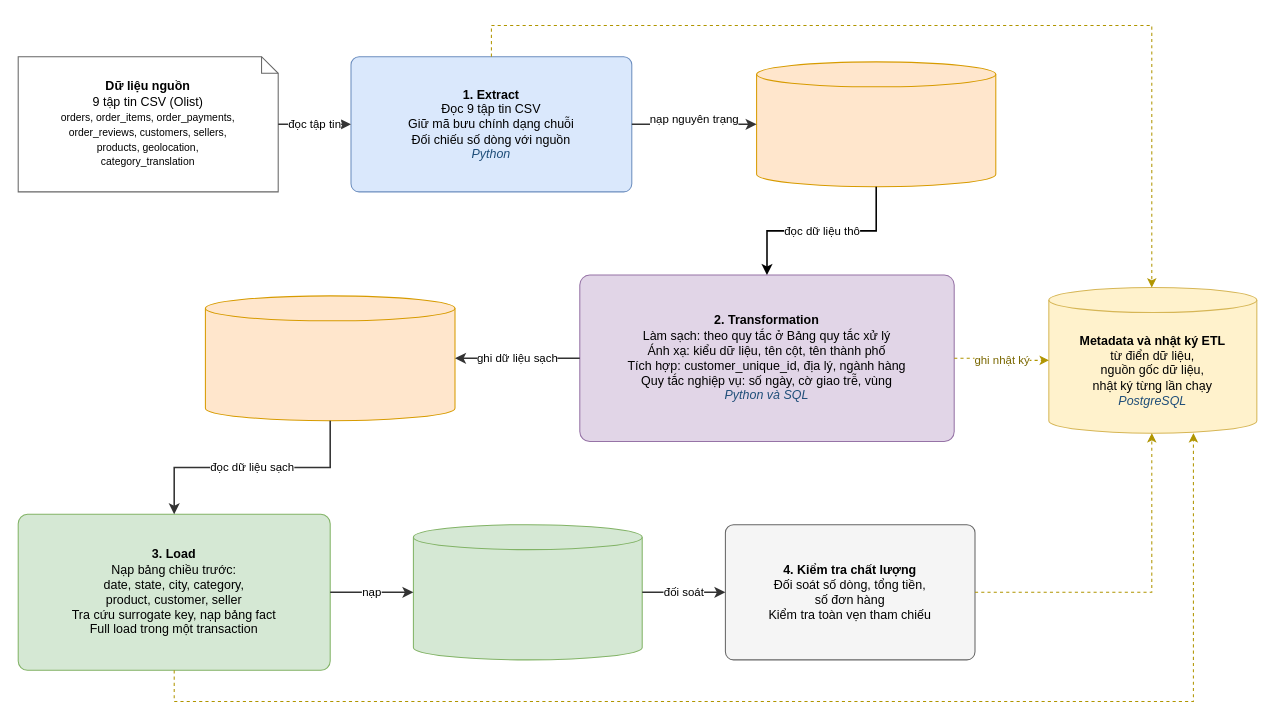
This 1275x728 diagram has some shape labels left out. Each missing label, with the box of its shape:
Data Mart snowflake schema PostgreSQL: (412, 524, 642, 660)
Staging: bảng thô stg_orders, stg_order_items, ... PostgreSQL, schema staging: (756, 61, 996, 187)
Staging: bảng đã làm sạch dữ liệu sẵn sàng để nạp PostgreSQL, schema staging: (204, 295, 455, 421)
